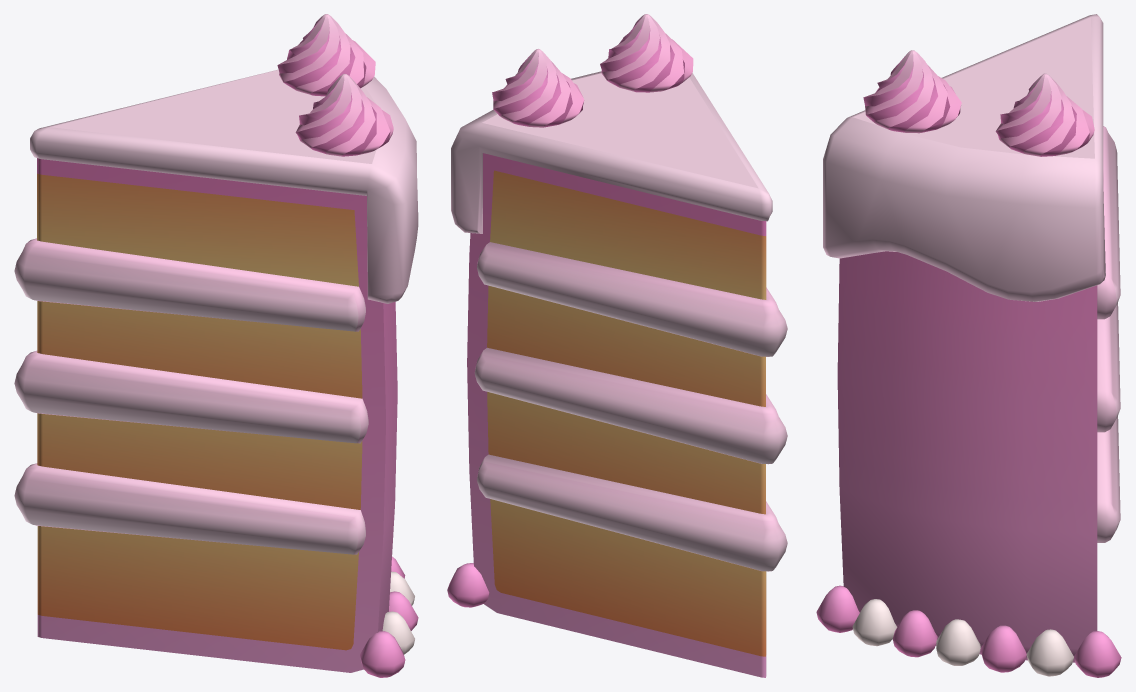
Rendered from Cake_Cherry_Slice_V2_01.fbx.
The picture shows the model from 3 angles, left to right: view 1: azimuth 30°, elevation 25°; view 2: azimuth 150°, elevation 25°; view 3: azimuth 270°, elevation 25°; orthographic projection. The views are drawn at different scales.
Parts seen in each view (by area): view 1: Cake_Cherry_Slice_V2_01; view 2: Cake_Cherry_Slice_V2_01; view 3: Cake_Cherry_Slice_V2_01.
Part boxes in pixels (bbox=[...]): Cake_Cherry_Slice_V2_01: bbox=[14, 14, 418, 677]; Cake_Cherry_Slice_V2_01: bbox=[447, 14, 787, 677]; Cake_Cherry_Slice_V2_01: bbox=[816, 14, 1121, 677].
Bounding box in the file's own units: 34.39 × 54.17 × 25.84.
